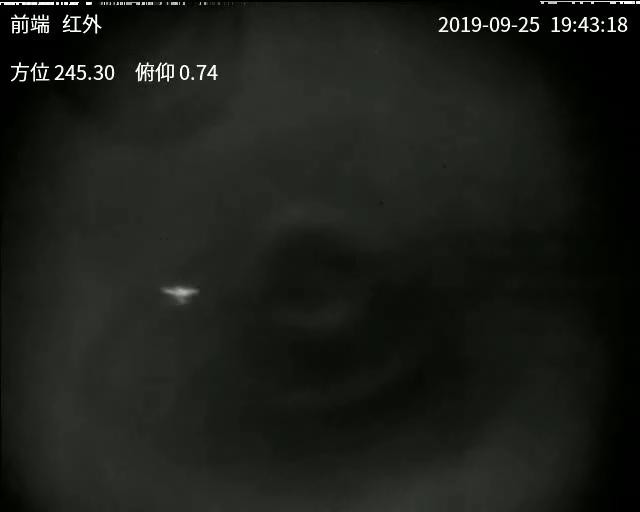uav: (162, 283, 200, 303)
